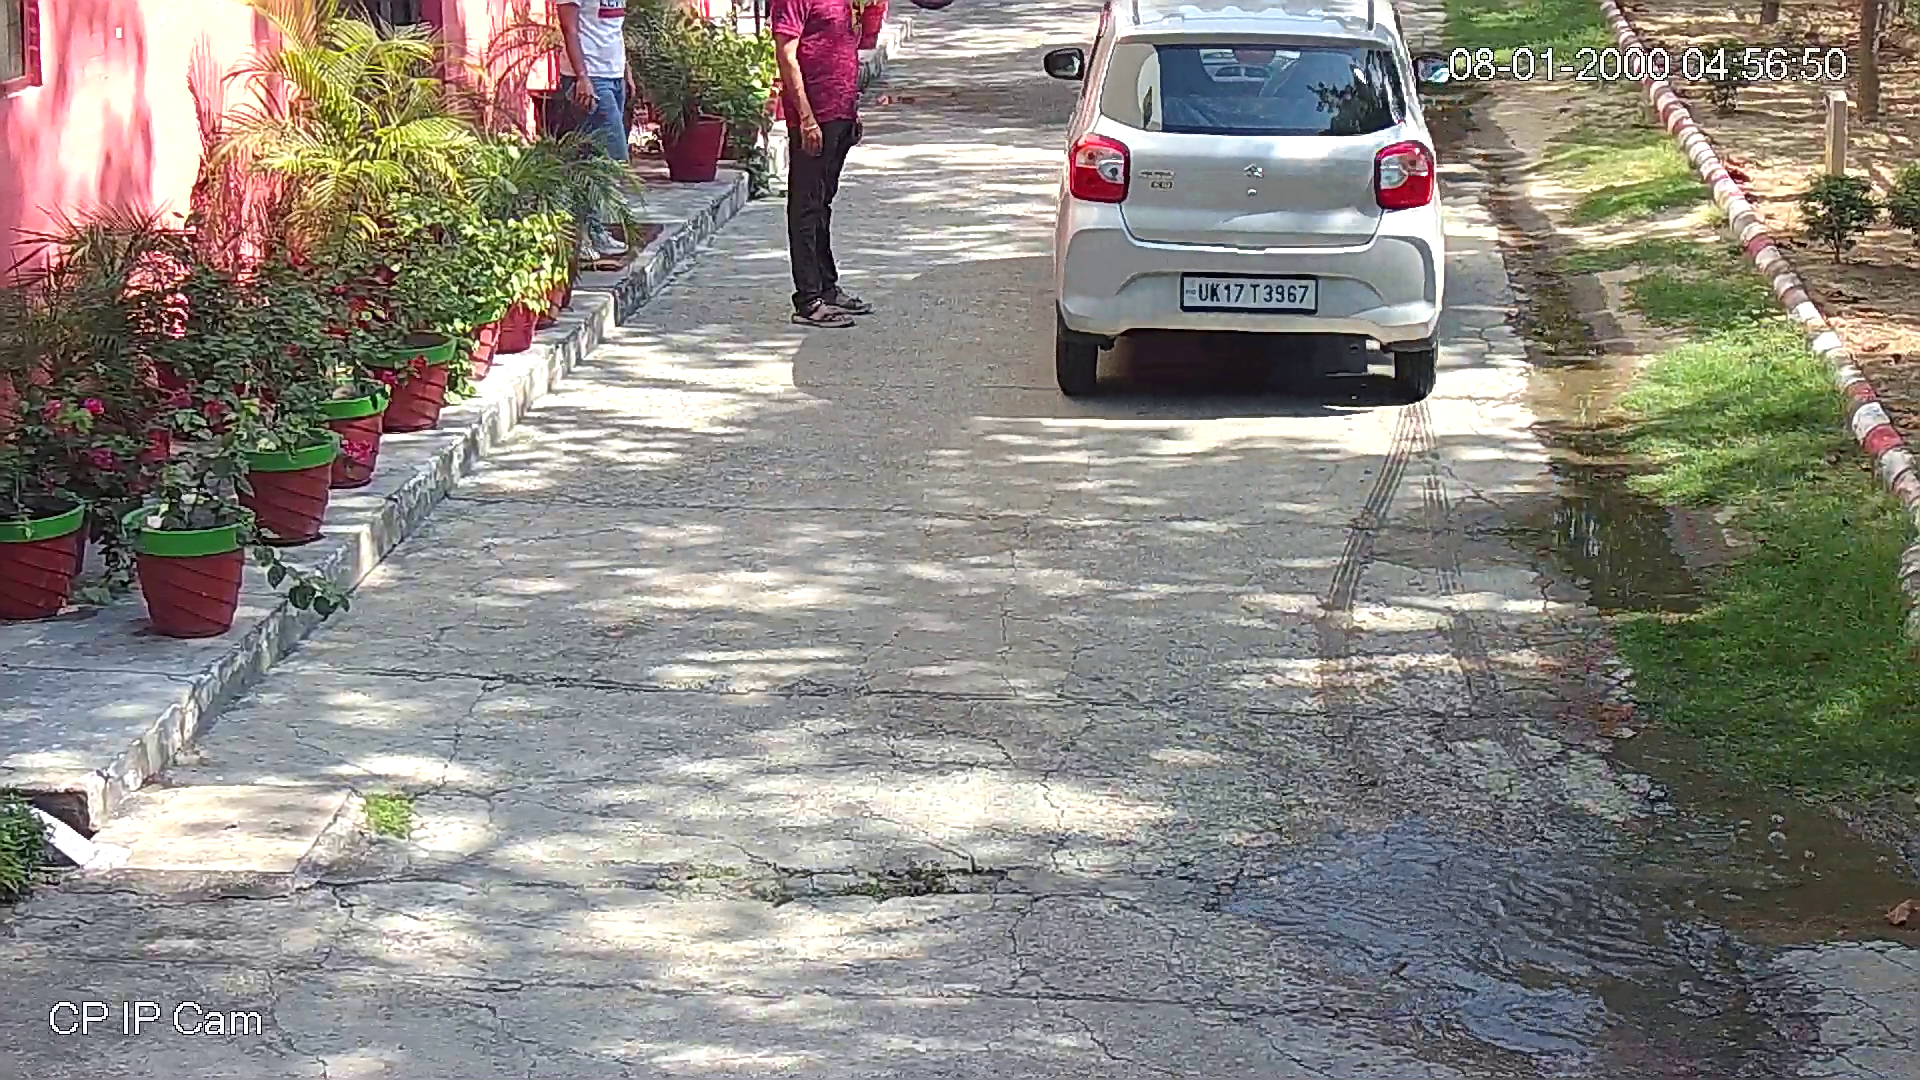plate: (1177, 272, 1318, 314)
